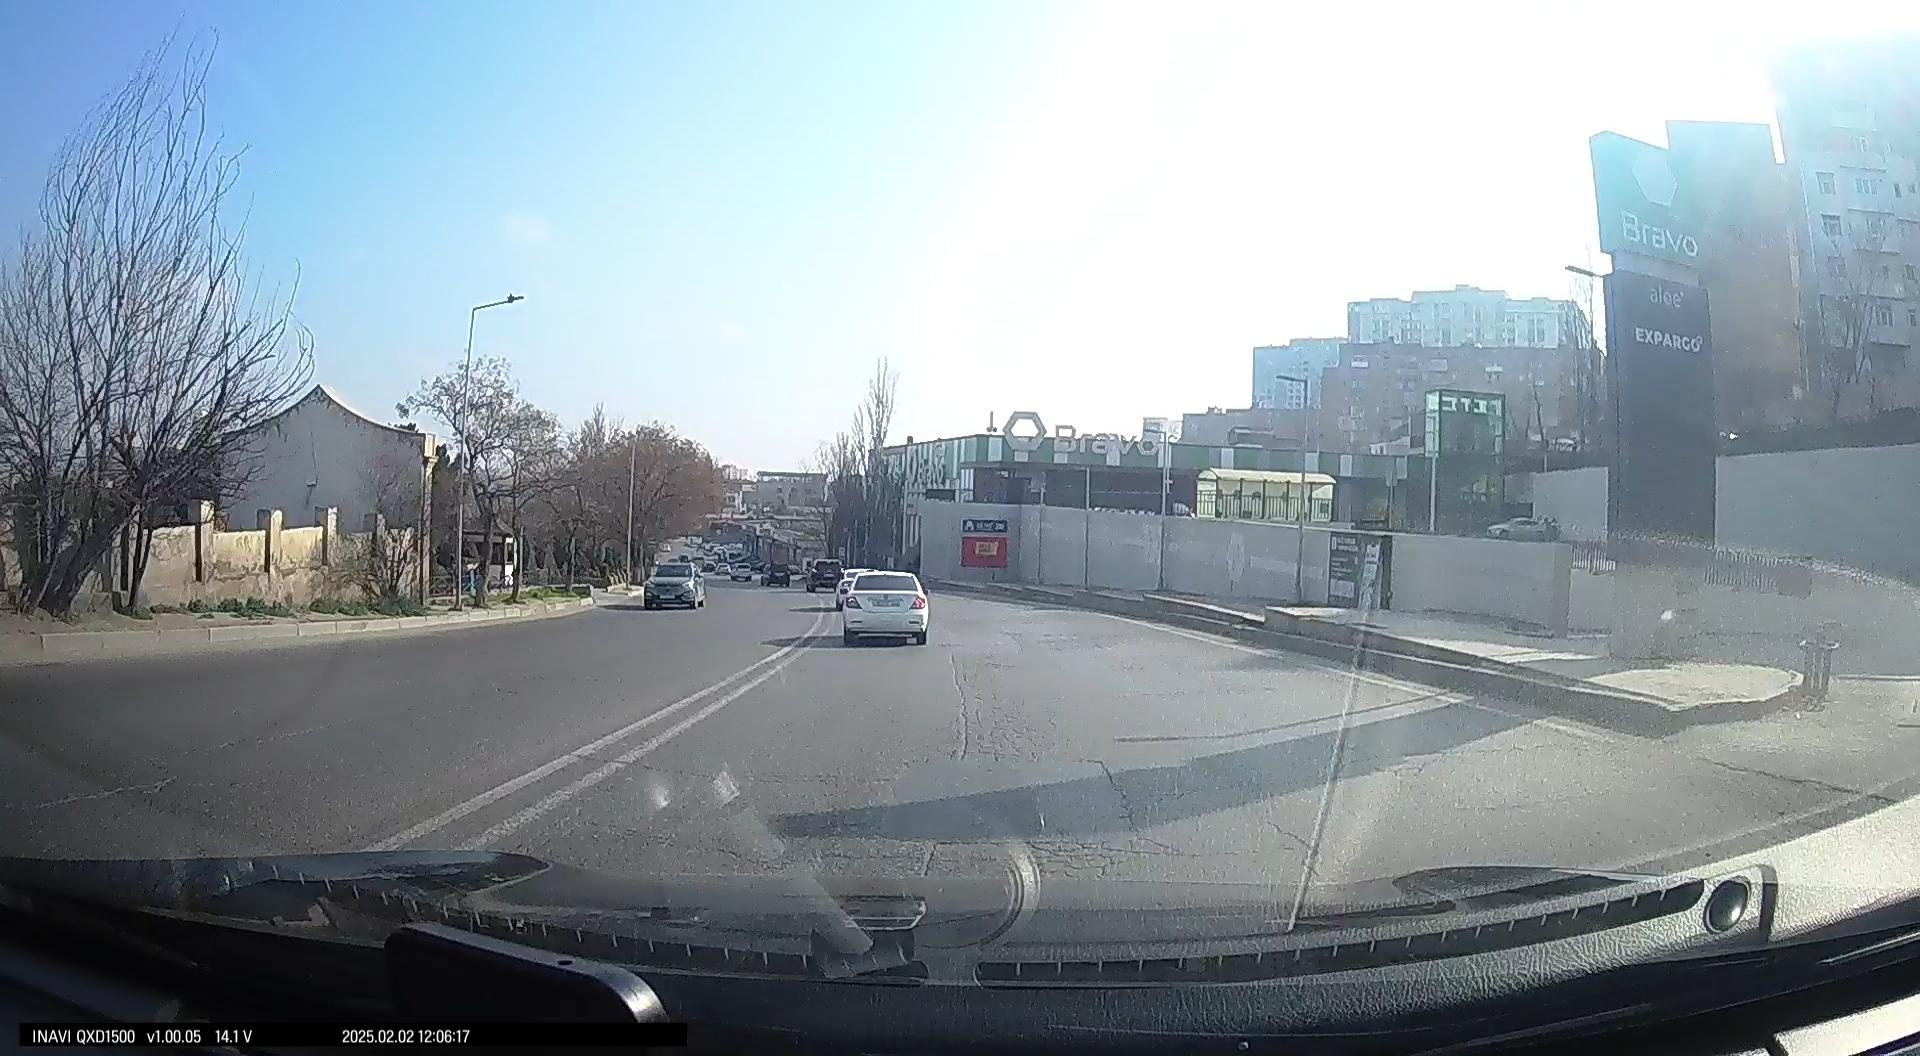banner: (1587, 130, 1728, 568), (1327, 532, 1395, 615)
